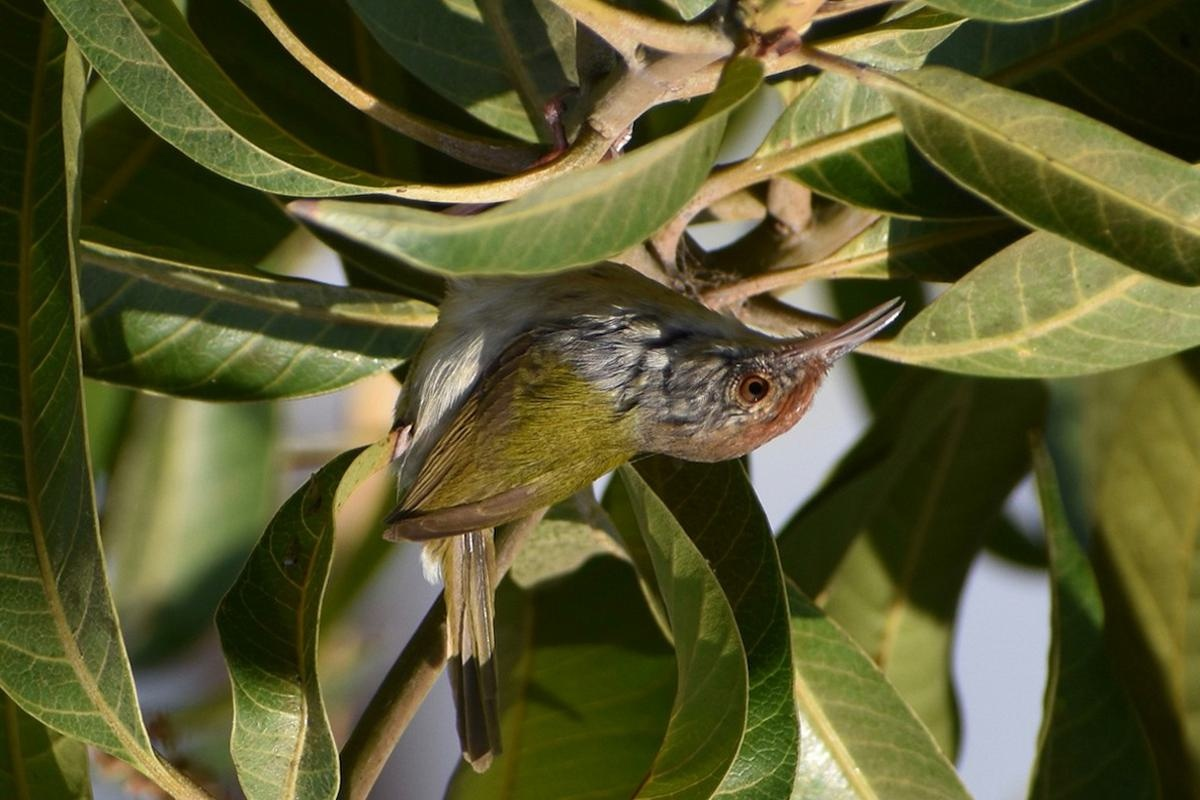tailorbird: (341, 238, 940, 717)
